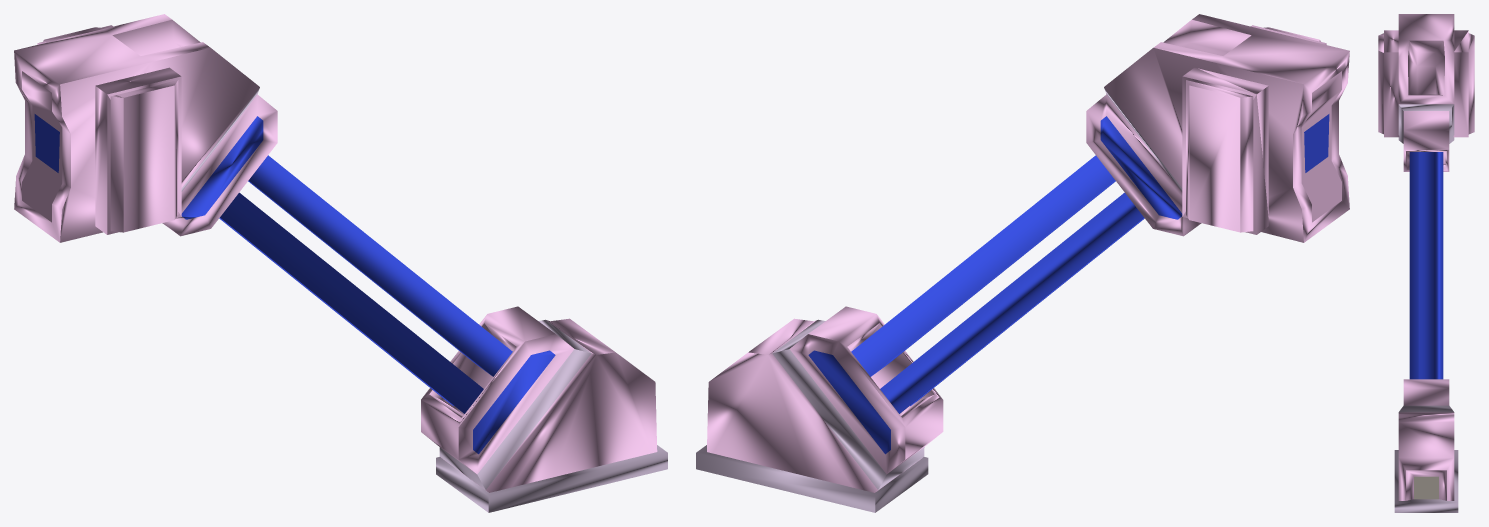
Rendered from roomlg_b_addon_heavy_support_frame_addon_03x005x205_lod1.glb.
3 views of the same model, side by side, from view 1: azimuth 30°, elevation 25°; view 2: azimuth 150°, elevation 25°; view 3: azimuth 270°, elevation 25° (orthographic). The views are drawn at different scales.
Bounding box in the file's own units: 2.91 × 2.44 × 0.6631.
